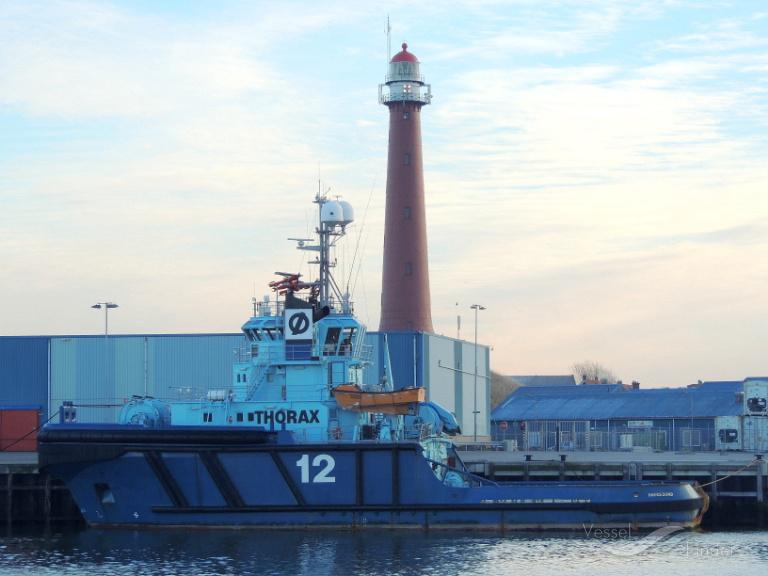OCR: (251, 394, 331, 432), (282, 445, 340, 488)
